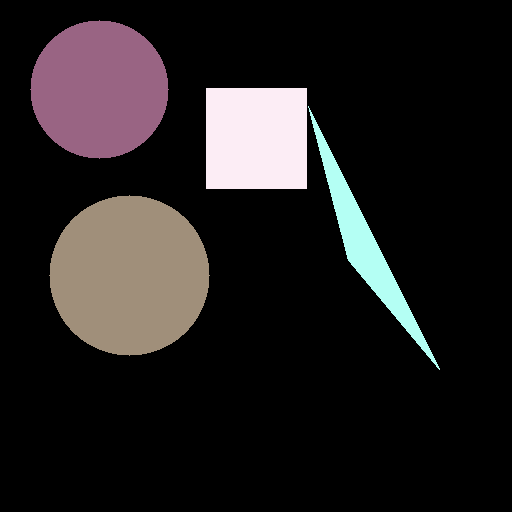circle: (49, 195, 209, 355), (30, 20, 168, 158)
square: (206, 88, 306, 188)
triangle: (308, 106, 439, 369)
